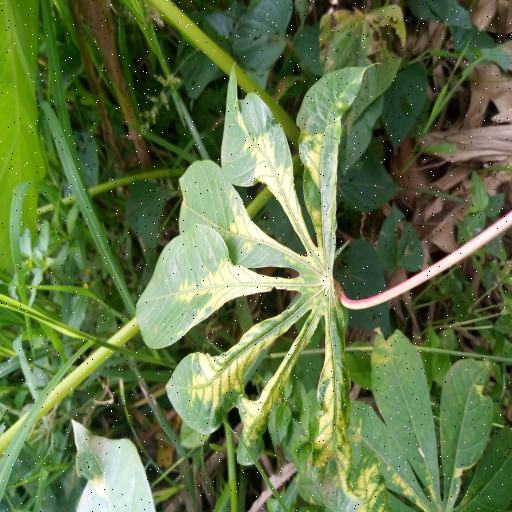Cassava_Mosaic: (135, 62, 388, 512)
